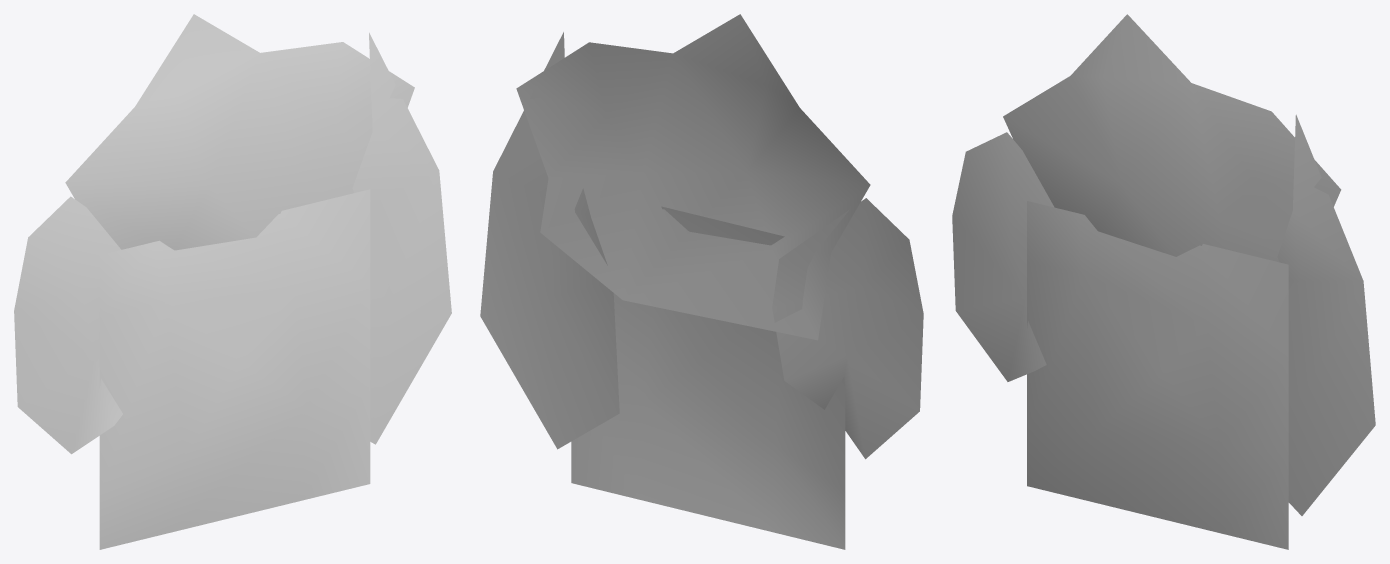
The model's file is SM_Env_Vine_08.fbx.
3 renders of one model, left to right at view 1: azimuth 30°, elevation 25°; view 2: azimuth 150°, elevation 25°; view 3: azimuth 330°, elevation 25°, orthographic. The views are drawn at different scales.
Visible parts, largest first — view 1: SM_Env_Vine_08; view 2: SM_Env_Vine_08; view 3: SM_Env_Vine_08.
Boxes of the visible parts, left/top/right/bottom form: SM_Env_Vine_08: left=14, top=14, right=451, bottom=549; SM_Env_Vine_08: left=480, top=14, right=923, bottom=549; SM_Env_Vine_08: left=952, top=14, right=1375, bottom=549.
Size of the model in its own units: 254 by 282 by 12.24.
